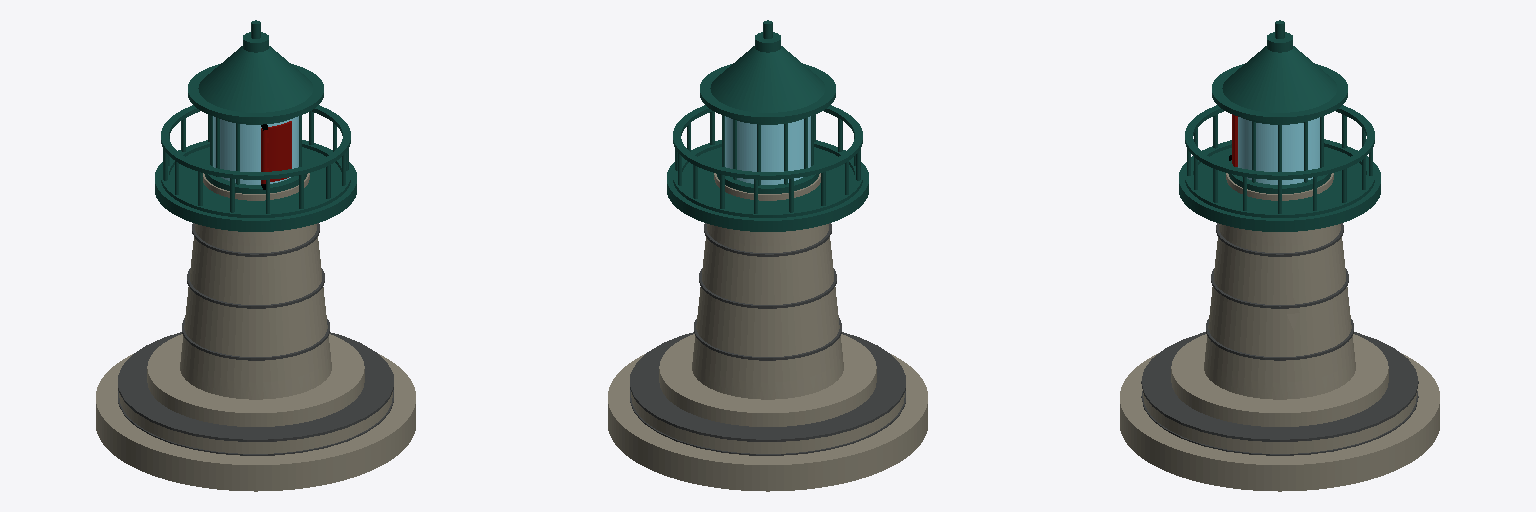
URDF robot description (squat_pier_lighthouse):
<robot name="squat_pier_lighthouse">
  <link name="tower">
    <visual name="stone_body">
      <geometry>
        <mesh filename="assets/meshes/pier_stone_body.obj" />
        </geometry>
      <material name="warm_gray_stone">
        <color rgba="0.58 0.56 0.5 1" />
        </material>
      </visual>
    <visual name="stone_course_0">
      <origin xyz="0 0 0.28" rpy="0 0 0" />
      <geometry>
        <cylinder radius="1.34" length="0.025" />
        </geometry>
      <material name="dark_stone_courses">
        <color rgba="0.3 0.31 0.31 1" />
        </material>
      </visual>
    <visual name="stone_course_1">
      <origin xyz="0 0 0.44" rpy="0 0 0" />
      <geometry>
        <cylinder radius="1.34" length="0.025" />
        </geometry>
      <material name="dark_stone_courses">
        <color rgba="0.3 0.31 0.31 1" />
        </material>
      </visual>
    <visual name="stone_course_2">
      <origin xyz="0 0 1.02" rpy="0 0 0" />
      <geometry>
        <cylinder radius="0.72" length="0.025" />
        </geometry>
      <material name="dark_stone_courses">
        <color rgba="0.3 0.31 0.31 1" />
        </material>
      </visual>
    <visual name="stone_course_3">
      <origin xyz="0 0 1.55" rpy="0 0 0" />
      <geometry>
        <cylinder radius="0.67" length="0.025" />
        </geometry>
      <material name="dark_stone_courses">
        <color rgba="0.3 0.31 0.31 1" />
        </material>
      </visual>
    <visual name="stone_course_4">
      <origin xyz="0 0 2.08" rpy="0 0 0" />
      <geometry>
        <cylinder radius="0.62" length="0.025" />
        </geometry>
      <material name="dark_stone_courses">
        <color rgba="0.3 0.31 0.31 1" />
        </material>
      </visual>
    <visual name="wraparound_gallery">
      <geometry>
        <mesh filename="assets/meshes/wraparound_gallery.obj" />
        </geometry>
      <material name="weathered_green_metal">
        <color rgba="0.13 0.34 0.31 1" />
        </material>
      </visual>
    <visual name="lantern_frame">
      <geometry>
        <mesh filename="assets/meshes/lantern_frame_roof.obj" />
        </geometry>
      <material name="weathered_green_metal">
        <color rgba="0.13 0.34 0.31 1" />
        </material>
      </visual>
    <visual name="lantern_glass">
      <geometry>
        <mesh filename="assets/meshes/cylindrical_lantern_glass.obj" />
        </geometry>
      <material name="slightly_green_glass">
        <color rgba="0.58 0.86 0.92 0.35" />
        </material>
      </visual>
    <visual name="central_spindle">
      <origin xyz="0 0 3.14" rpy="0 0 0" />
      <geometry>
        <cylinder radius="0.025" length="1.12" />
        </geometry>
      <material name="blackened_metal">
        <color rgba="0.02 0.025 0.025 1" />
        </material>
      </visual>
    <visual name="door_hinge_pin">
      <geometry>
        <mesh filename="assets/meshes/fixed_door_hinge_pin.obj" />
        </geometry>
      <material name="blackened_metal">
        <color rgba="0.02 0.025 0.025 1" />
        </material>
      </visual>
    <collision name="stone_body">
      <geometry>
        <mesh filename="assets/meshes/pier_stone_body.obj" />
        </geometry>
      </collision>
    <collision name="stone_course_0">
      <origin xyz="0 0 0.28" rpy="0 0 0" />
      <geometry>
        <cylinder radius="1.34" length="0.025" />
        </geometry>
      </collision>
    <collision name="stone_course_1">
      <origin xyz="0 0 0.44" rpy="0 0 0" />
      <geometry>
        <cylinder radius="1.34" length="0.025" />
        </geometry>
      </collision>
    <collision name="stone_course_2">
      <origin xyz="0 0 1.02" rpy="0 0 0" />
      <geometry>
        <cylinder radius="0.72" length="0.025" />
        </geometry>
      </collision>
    <collision name="stone_course_3">
      <origin xyz="0 0 1.55" rpy="0 0 0" />
      <geometry>
        <cylinder radius="0.67" length="0.025" />
        </geometry>
      </collision>
    <collision name="stone_course_4">
      <origin xyz="0 0 2.08" rpy="0 0 0" />
      <geometry>
        <cylinder radius="0.62" length="0.025" />
        </geometry>
      </collision>
    <collision name="wraparound_gallery">
      <geometry>
        <mesh filename="assets/meshes/wraparound_gallery.obj" />
        </geometry>
      </collision>
    <collision name="lantern_frame">
      <geometry>
        <mesh filename="assets/meshes/lantern_frame_roof.obj" />
        </geometry>
      </collision>
    <collision name="lantern_glass">
      <geometry>
        <mesh filename="assets/meshes/cylindrical_lantern_glass.obj" />
        </geometry>
      </collision>
    <collision name="central_spindle">
      <origin xyz="0 0 3.14" rpy="0 0 0" />
      <geometry>
        <cylinder radius="0.025" length="1.12" />
        </geometry>
      </collision>
    <collision name="door_hinge_pin">
      <geometry>
        <mesh filename="assets/meshes/fixed_door_hinge_pin.obj" />
        </geometry>
      </collision>
    </link>
  <link name="beacon">
    <visual name="beacon_shell">
      <geometry>
        <mesh filename="assets/meshes/rotating_beacon_drum.obj" />
        </geometry>
      <material name="aged_brass">
        <color rgba="0.85 0.62 0.24 1" />
        </material>
      </visual>
    <visual name="front_lens">
      <origin xyz="0.185 0 0" rpy="0 0 0" />
      <geometry>
        <box size="0.042 0.2 0.16" />
        </geometry>
      <material name="warm_beacon_lens">
        <color rgba="1 0.8 0.23 0.9" />
        </material>
      </visual>
    <visual name="rear_lens">
      <origin xyz="-0.185 0 0" rpy="0 0 0" />
      <geometry>
        <box size="0.042 0.2 0.16" />
        </geometry>
      <material name="warm_beacon_lens">
        <color rgba="1 0.8 0.23 0.9" />
        </material>
      </visual>
    <collision name="beacon_shell">
      <geometry>
        <mesh filename="assets/meshes/rotating_beacon_drum.obj" />
        </geometry>
      </collision>
    <collision name="front_lens">
      <origin xyz="0.185 0 0" rpy="0 0 0" />
      <geometry>
        <box size="0.042 0.2 0.16" />
        </geometry>
      </collision>
    <collision name="rear_lens">
      <origin xyz="-0.185 0 0" rpy="0 0 0" />
      <geometry>
        <box size="0.042 0.2 0.16" />
        </geometry>
      </collision>
    </link>
  <link name="maintenance_door">
    <visual name="door_panel">
      <geometry>
        <mesh filename="assets/meshes/curved_maintenance_door.obj" />
        </geometry>
      <material name="faded_red_door">
        <color rgba="0.55 0.08 0.055 1" />
        </material>
      </visual>
    <collision name="door_panel">
      <geometry>
        <mesh filename="assets/meshes/curved_maintenance_door.obj" />
        </geometry>
      </collision>
    </link>
  <joint name="beacon_spin" type="continuous">
    <origin xyz="0 0 3.13" rpy="0 0 0" />
    <parent link="tower" />
    <child link="beacon" />
    <axis xyz="0 0 1" />
    <limit effort="8" velocity="2.5" />
    </joint>
  <joint name="door_hinge" type="revolute">
    <origin xyz="-0.159039 -0.436957 2.78" rpy="0 0 0" />
    <parent link="tower" />
    <child link="maintenance_door" />
    <axis xyz="0 0 -1" />
    <limit effort="18" velocity="1.5" lower="0" upper="1.35" />
    </joint>
  </robot>

--- Facts derived from the render (not from the file) ---
The picture shows the robot from 3 angles, left to right: view 1: azimuth 30°, elevation 25°; view 2: azimuth 150°, elevation 25°; view 3: azimuth 270°, elevation 25°; orthographic projection.
Model squat_pier_lighthouse with 3 links and 2 joints (1 revolute, 1 continuous), rooted at tower, posed all joints at 0.
Visible links, largest first — view 1: tower, maintenance_door; view 2: tower; view 3: tower.
Link boxes in pixels (box(x1,y1,x2,y2)): tower: box(96, 20, 415, 491); maintenance_door: box(261, 121, 291, 183); tower: box(608, 20, 927, 491); tower: box(1120, 20, 1439, 491).
Bounding box of the posed robot: 3.1 × 3.1 × 4.28 m (x, y, z).
7 mesh visuals loaded from 7 distinct referenced files (7 OBJ).
